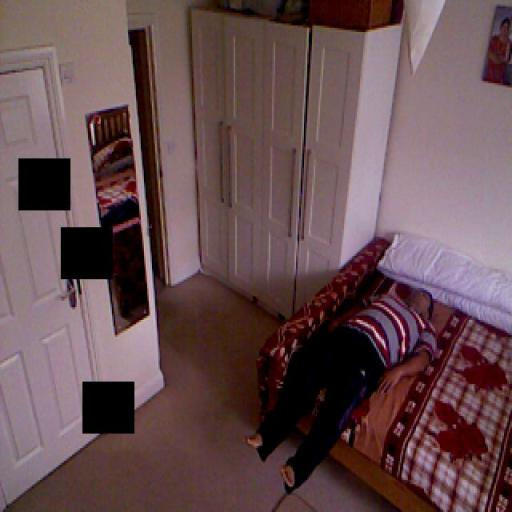Fall: (240, 262, 446, 484)
